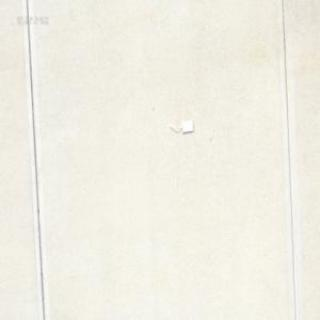LuggageTagtrack_idkeyframe: (168, 117, 193, 135)
